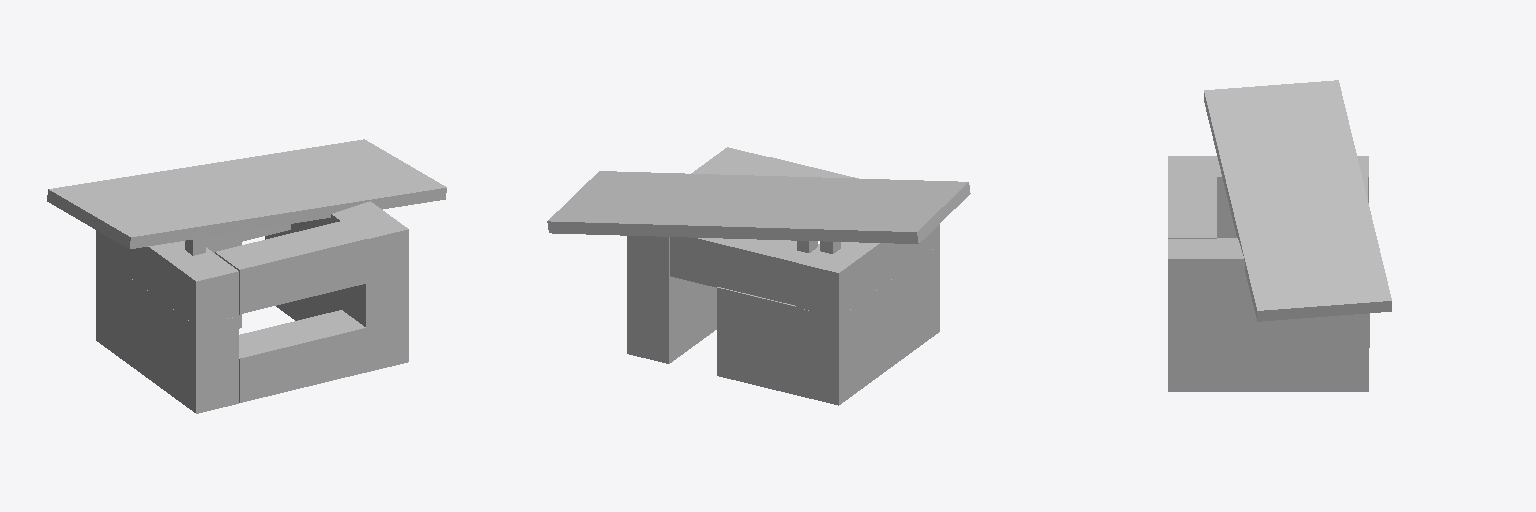
Rendered from Map.obj.
3 views of the same model, side by side, from view 1: azimuth 30°, elevation 25°; view 2: azimuth 150°, elevation 25°; view 3: azimuth 270°, elevation 25° (orthographic).
Parts seen in each view (by area): view 1: Full_House_Cube.013; view 2: Full_House_Cube.013; view 3: Full_House_Cube.013.
Boxes of the visible parts, x1=… form: Full_House_Cube.013: x1=47, y1=139, x2=446, y2=413; Full_House_Cube.013: x1=547, y1=147, x2=970, y2=405; Full_House_Cube.013: x1=1168, y1=80, x2=1391, y2=391.
Size of the model in its own units: 16.89 by 7.96 by 9.12.